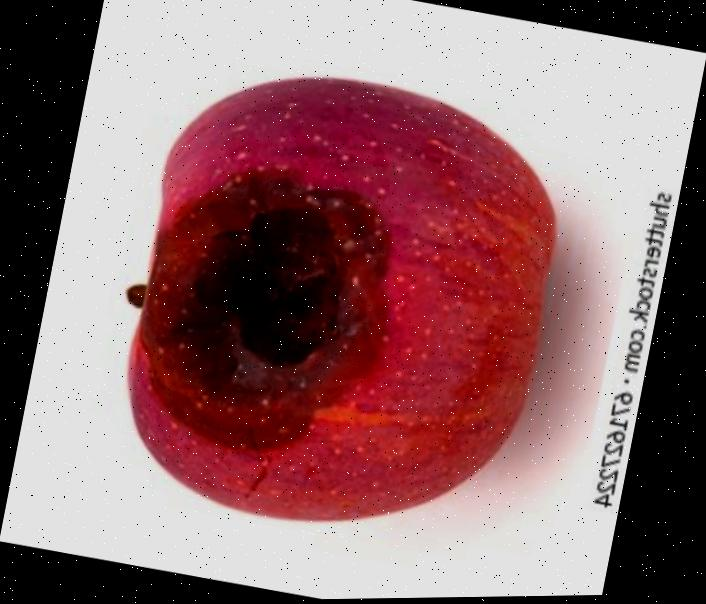ROT: (74, 2, 612, 603)
